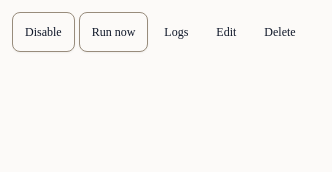
Test: ScheduleActions › runs now and shows the busy message from a 409
Click the button with aria-label "Run now: Morning scan" at point(114, 32), box [79,12,148,52]
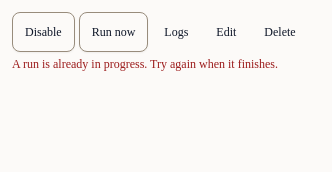
Expected: the message shows "already in progress", [12,57,278,71]
